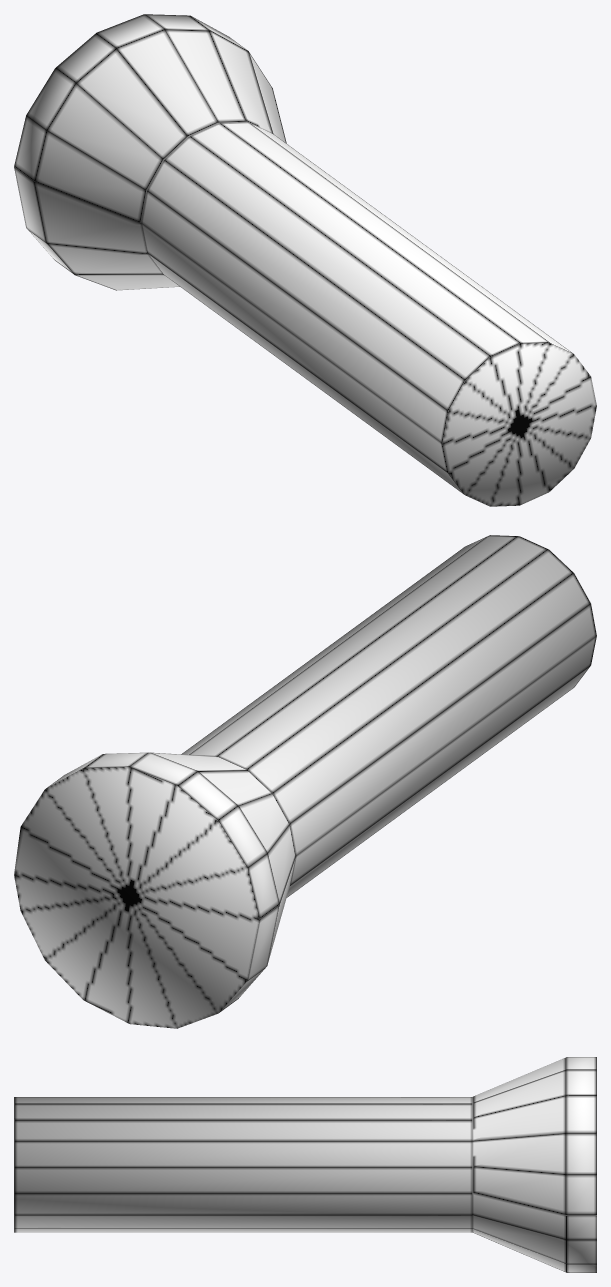
The model's file is flashlight.obj.
3 views of the same model, one above another, from view 1: azimuth 30°, elevation 25°; view 2: azimuth 150°, elevation 25°; view 3: azimuth 270°, elevation 25° (orthographic). The views are drawn at different scales.
Visible parts, largest first — view 1: cylinder1; view 2: cylinder1; view 3: cylinder1.
Part boxes in pixels (x1=…): cylinder1: x1=14, y1=14, x2=596, y2=506; cylinder1: x1=14, y1=535, x2=596, y2=1028; cylinder1: x1=14, y1=1057, x2=596, y2=1272.
Size of the model in its own units: 0.4578 by 0.4578 by 1.24.
Materials: 1 (1 with a texture image).
